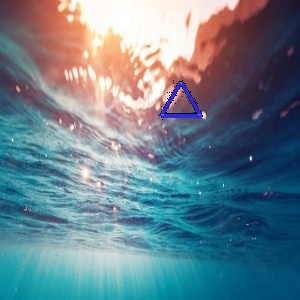triangle: (156, 76, 206, 121)
